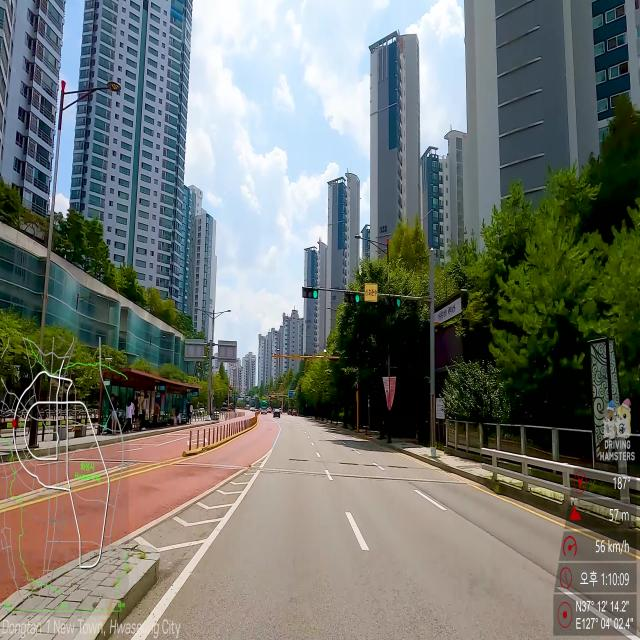Green Light: (312, 290, 318, 298), (356, 294, 360, 302), (397, 299, 400, 307)
